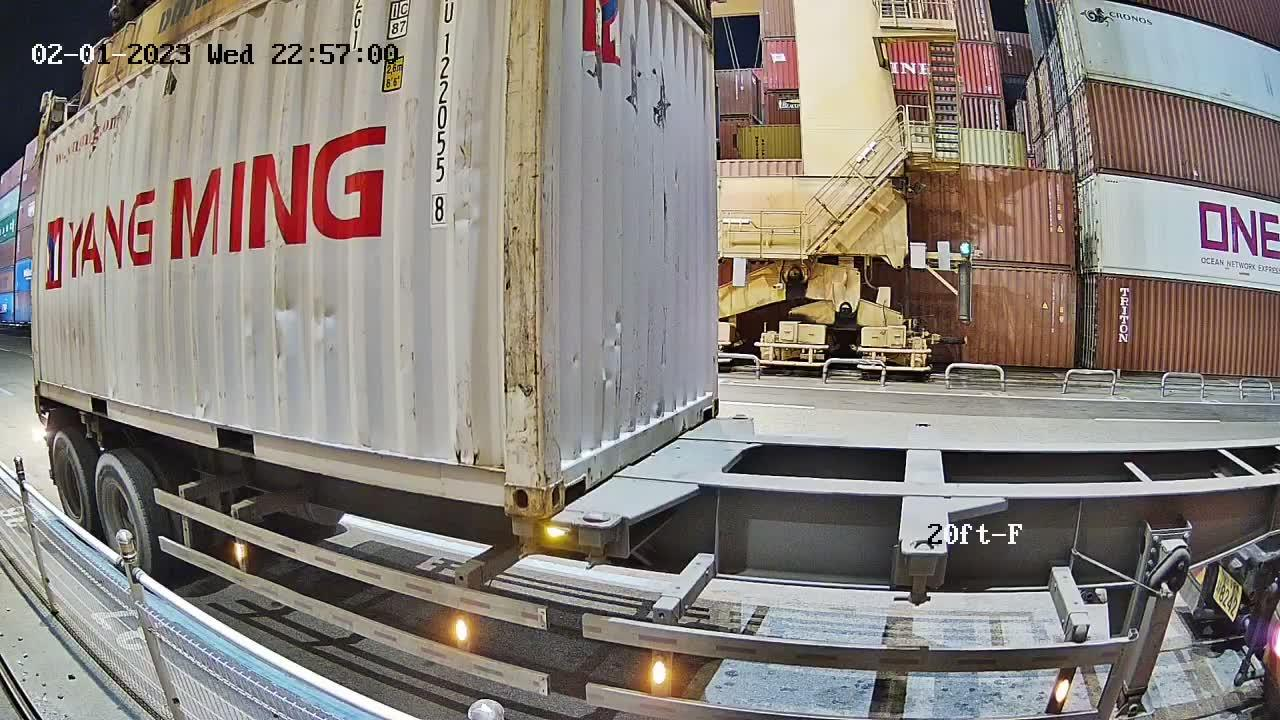Chassis: (579, 415, 751, 527)
Cone: (579, 512, 618, 571), (506, 514, 538, 562)
Hole_L: (536, 425, 592, 521)
Hole_R: (463, 436, 540, 519), (697, 378, 719, 426)
Tire: (94, 454, 157, 593), (51, 436, 96, 541)
